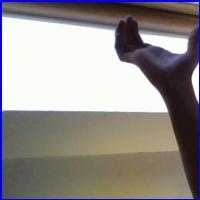space: (104, 10, 198, 86)
